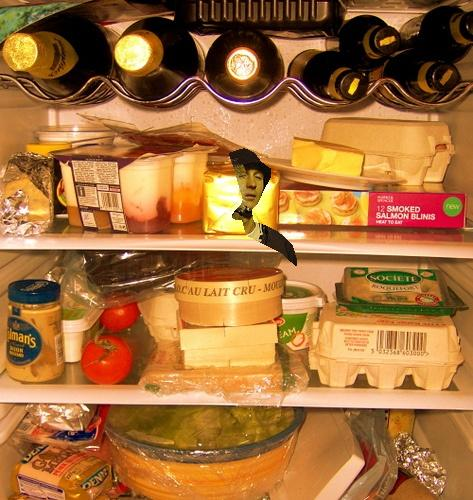tampered: (230, 149, 297, 266)
